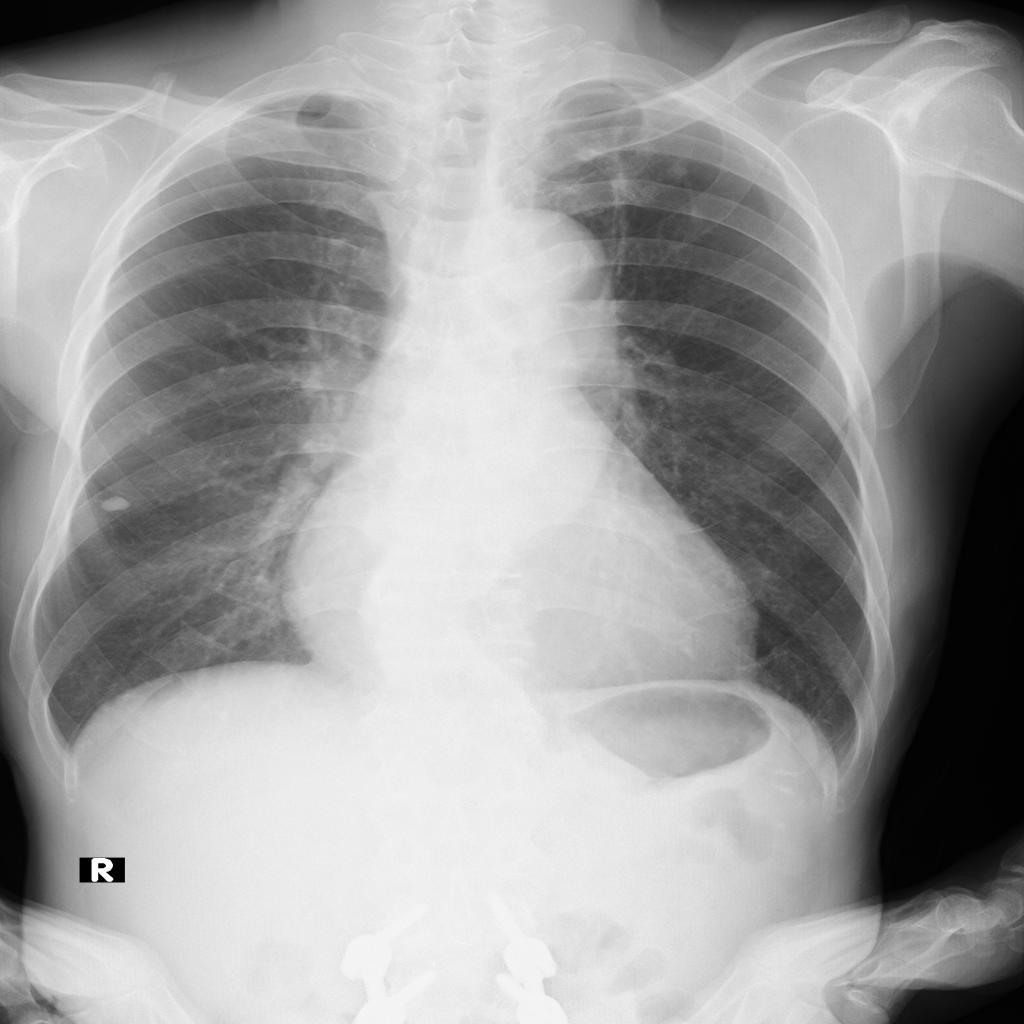Nodule: (102, 493, 128, 514)
